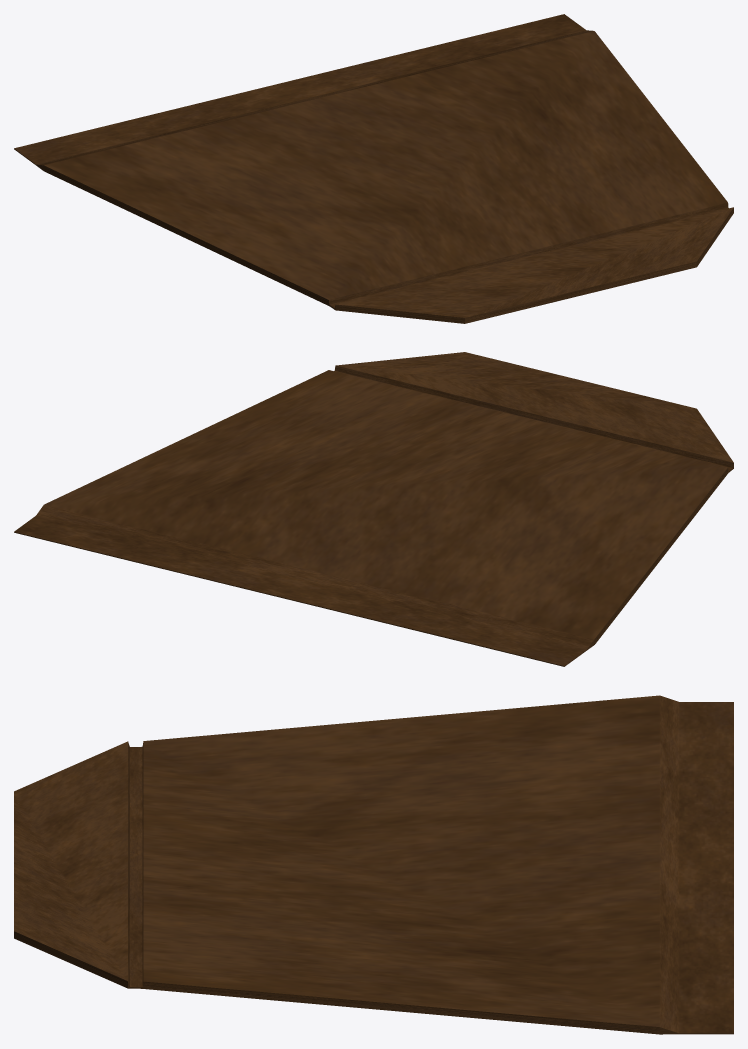
File: trench_2.glb
The picture shows the model from 3 angles, top to bottom: view 1: azimuth 30°, elevation 25°; view 2: azimuth 150°, elevation 25°; view 3: azimuth 270°, elevation 25°; orthographic projection. The views are drawn at different scales.
Parts seen in each view (by area): view 1: Trench; view 2: Trench; view 3: Trench.
Boxes of the visible parts, box(x1,y1,x2,y2) form: Trench: box(14, 14, 733, 323); Trench: box(14, 352, 733, 666); Trench: box(14, 695, 733, 1034).
Size of what is drawn, in the model's own units: 244 by 2.53 by 224.
1 material, 1 textured.
